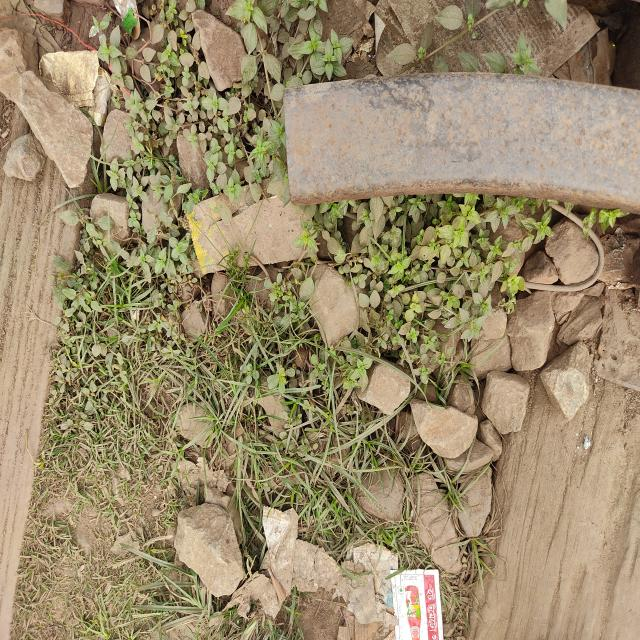Faults: (266, 90, 318, 213)
